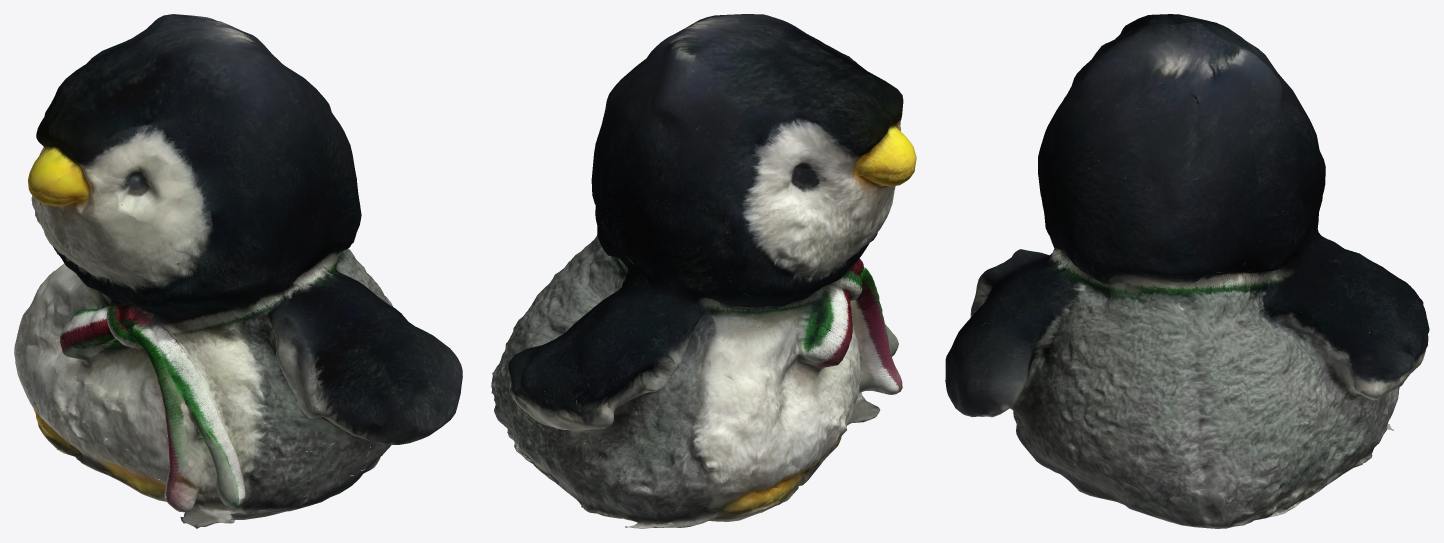
File: pinguiBake.glb
3 renders of one model, left to right at view 1: azimuth 30°, elevation 25°; view 2: azimuth 150°, elevation 25°; view 3: azimuth 270°, elevation 25°, orthographic. The views are drawn at different scales.
Visible parts, largest first — view 1: Mesh_0; view 2: Mesh_0; view 3: Mesh_0.
Boxes of the visible parts, x1=… form: Mesh_0: x1=14, y1=14, x2=462, y2=528; Mesh_0: x1=491, y1=14, x2=916, y2=528; Mesh_0: x1=945, y1=14, x2=1429, y2=528.
Bounding box in the file's own units: 1.71 × 1.83 × 1.98.
1 material, 1 textured.
